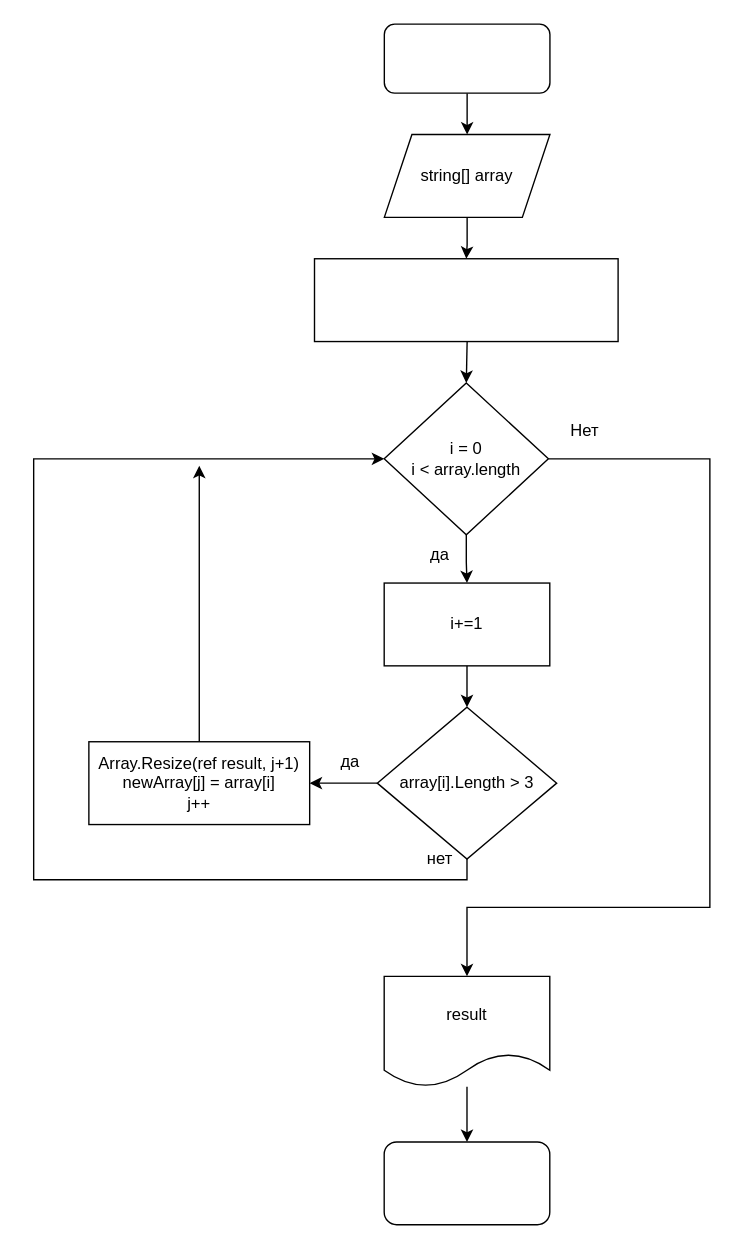
This 745x1249 diagram has some shape labels left out. The shapes that lost their labels are listed below. From the top down, each one's centre as x and y in pixels, then its label:
(466,58): Начало
(465,299): string[] result = Array.Empty<string>() int j =0
(466,1183): Конец
